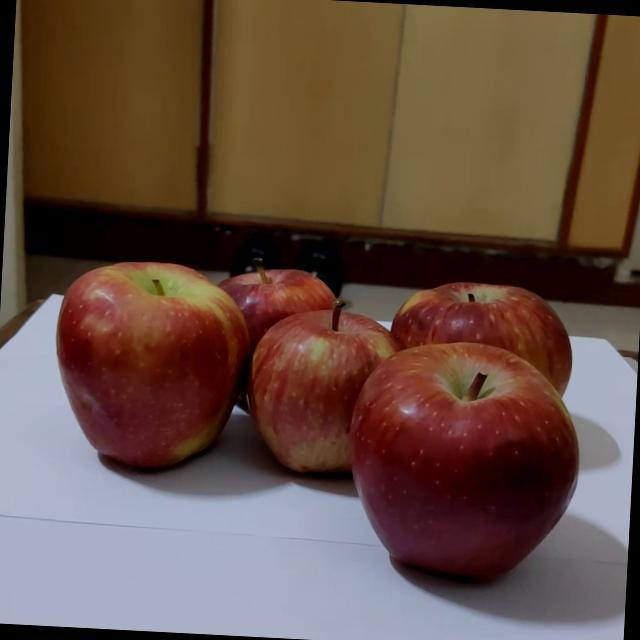apple: (308, 340, 552, 599), (370, 250, 575, 447), (34, 271, 230, 474), (214, 300, 388, 474), (197, 238, 345, 382)
